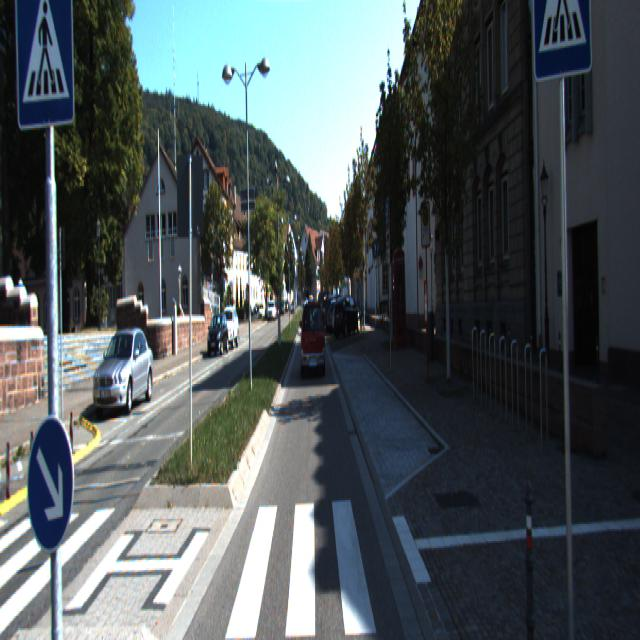Car: (93, 331, 155, 418), (302, 301, 326, 378), (332, 296, 362, 339), (327, 298, 356, 332), (207, 315, 229, 357), (219, 308, 239, 349)
